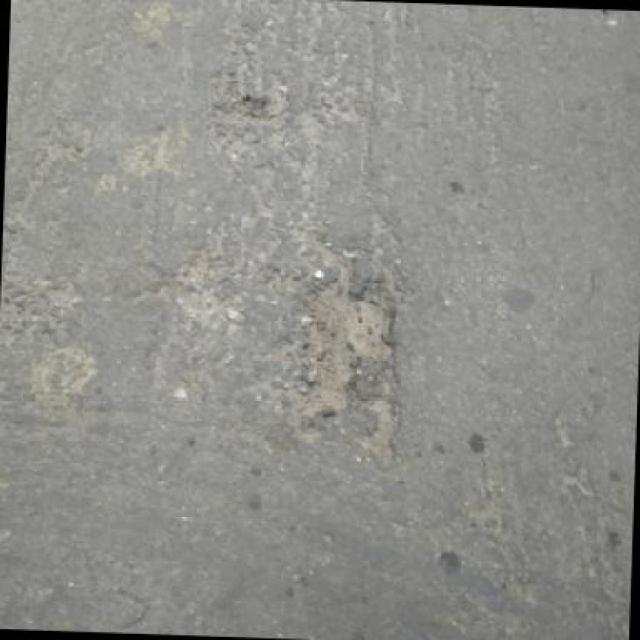pothole1: (268, 273, 410, 452), (217, 92, 271, 125)
